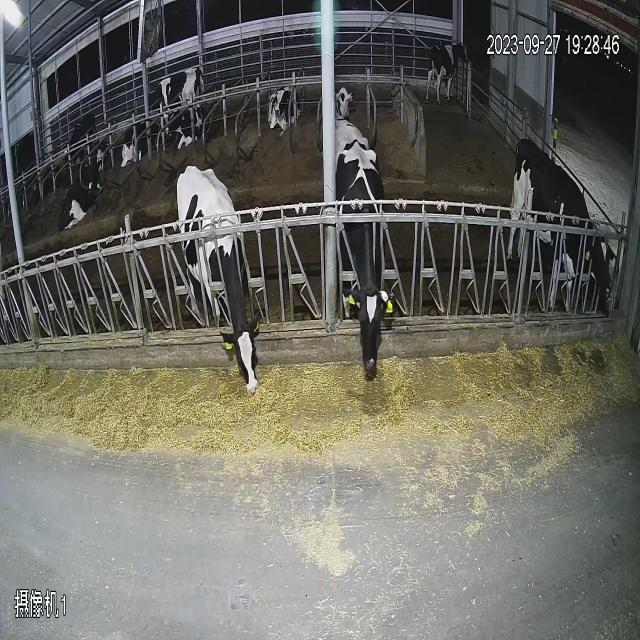feeding: (169, 162, 287, 402)
lying down: (59, 156, 108, 249), (253, 63, 306, 145), (157, 100, 219, 156), (318, 68, 359, 130), (121, 107, 155, 177), (78, 134, 110, 172)
standing: (142, 66, 214, 113), (64, 98, 102, 164)
